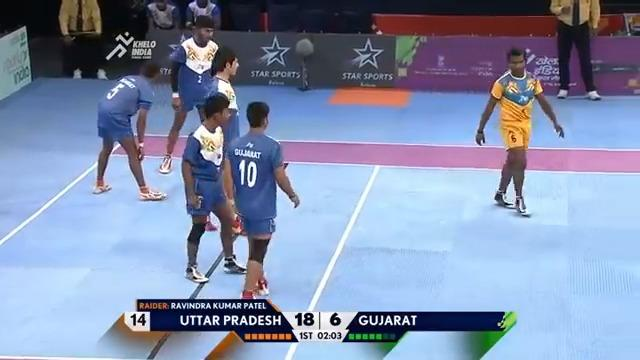Player: (222, 100, 300, 299), (180, 91, 247, 283), (91, 59, 167, 201), (157, 14, 219, 173), (200, 45, 242, 232)
Raider: (474, 46, 564, 216)
referee: (548, 0, 602, 100), (57, 0, 107, 79), (57, 0, 102, 42)
